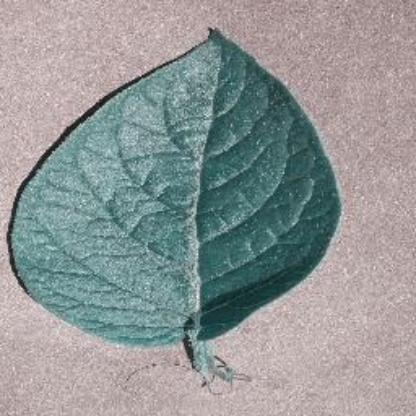Healthy-plant: (8, 25, 344, 366)
